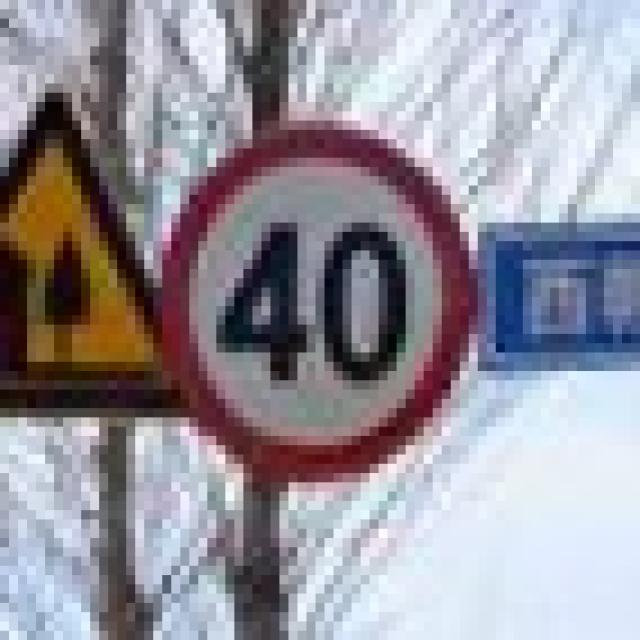Speed Limit -40-: (217, 216, 414, 390)
